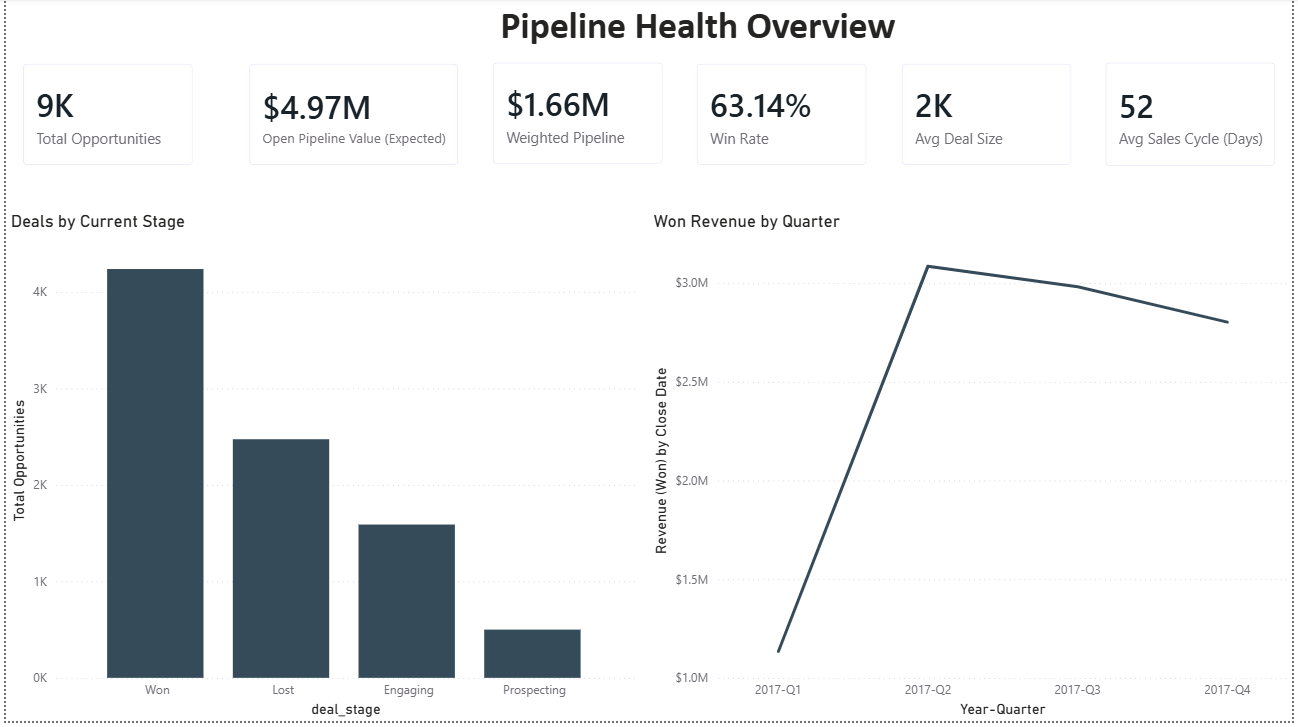

The page's visual inventory and layout, read from the dashboard file:
{"tool":"powerbi","page":{"name":"Pipeline Health ","canvas":[1280,720],"ordinal":0},"visuals":[{"type":"cardVisual","fields":{"Data":["_Measures.Total Opportunities"]},"box":[0,48,203.1,135.8],"z":0},{"type":"cardVisual","fields":{"Data":["_Measures.Avg Deal Size"]},"box":[874.1,48,203.1,135.8],"z":1000},{"type":"cardVisual","fields":{"Data":["_Measures.Win Rate"]},"box":[671,48,203.1,135.8],"z":2000},{"type":"cardVisual","fields":{"Data":["_Measures.Weighted Pipeline"]},"box":[467.9,46.7,203.1,135.8],"z":3000},{"type":"cardVisual","fields":{"Data":["_Measures.Open Pipeline Value (Expected)"]},"box":[225,48,242.9,135.8],"z":4000},{"type":"cardVisual","fields":{"Data":["_Measures.Avg Sales Cycle (Days)"]},"box":[1077.2,46.7,203.1,137.2],"z":5000},{"type":"clusteredColumnChart","title":"Deals by Current Stage","fields":{"Y":["_Measures.Total Opportunities"],"Category":["sales_pipeline.deal_stage"]},"box":[0,211.3,631.2,509.1],"z":6000},{"type":"lineChart","title":"Won Revenue by Quarter","fields":{"Category":["date.Year-Quarter"],"Y":["_Measures.Revenue (Won) by Close Date"]},"box":[639.5,211.3,640.8,509.1],"z":7000},{"type":"textbox","box":[422.6,0,531,57.6],"z":8000}]}

Visuals, with their boxes in screenshot pixels (x1, y1, x2, y2), scaled from the page's 1280x720 canvas onto the 1298x727 screenshot:
cardVisual - _Measures.Total Opportunities: left=0, top=48, right=206, bottom=186
cardVisual - _Measures.Avg Deal Size: left=886, top=48, right=1092, bottom=186
cardVisual - _Measures.Win Rate: left=680, top=48, right=886, bottom=186
cardVisual - _Measures.Weighted Pipeline: left=474, top=47, right=680, bottom=184
cardVisual - _Measures.Open Pipeline Value (Expected): left=228, top=48, right=474, bottom=186
cardVisual - _Measures.Avg Sales Cycle (Days): left=1092, top=47, right=1297, bottom=186
"Deals by Current Stage" clusteredColumnChart: left=0, top=213, right=640, bottom=726
"Won Revenue by Quarter" lineChart: left=648, top=213, right=1297, bottom=726
textbox: left=429, top=0, right=967, bottom=58
